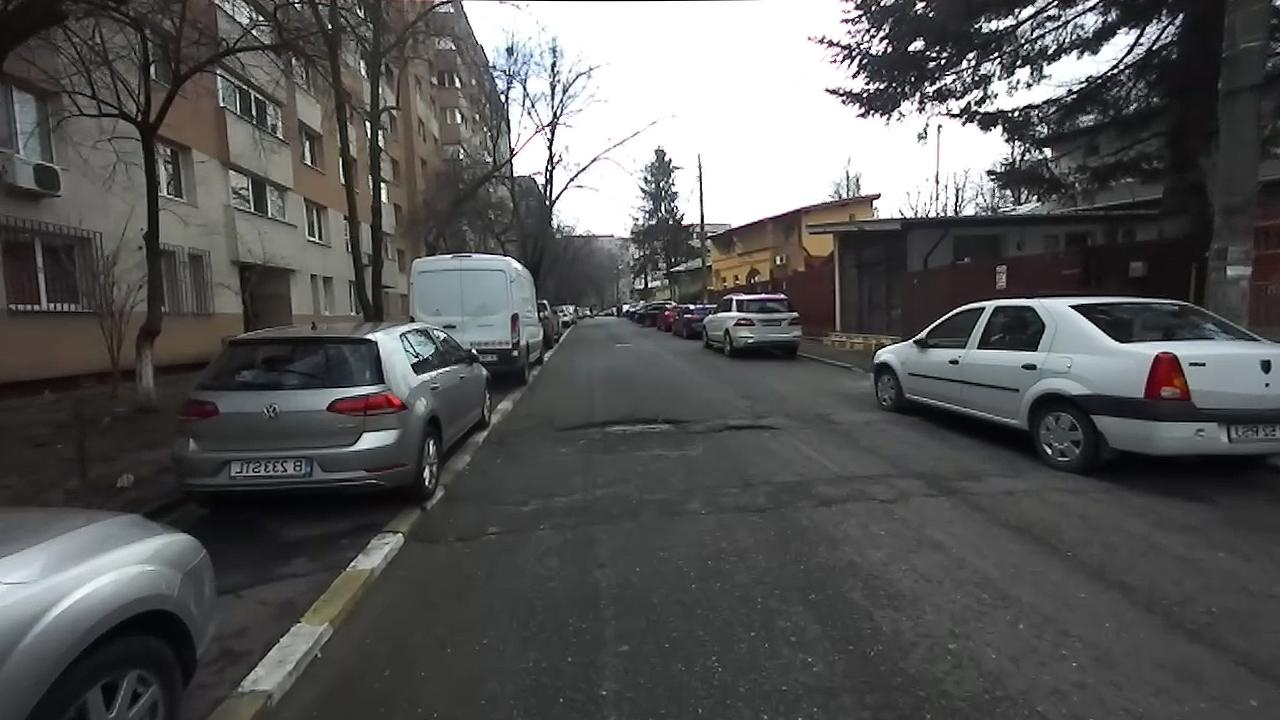pothole: (552, 414, 693, 438), (418, 525, 519, 548), (711, 421, 782, 435)
